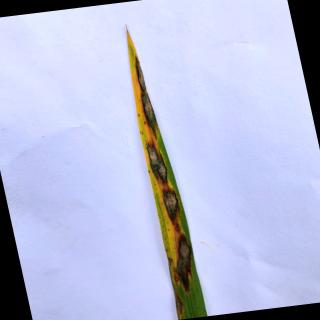Blast: (145, 137, 169, 185), (140, 92, 161, 140), (175, 234, 192, 293), (162, 187, 183, 223), (136, 56, 146, 92), (176, 295, 186, 319), (168, 256, 175, 266), (175, 223, 181, 234), (173, 276, 180, 284)
